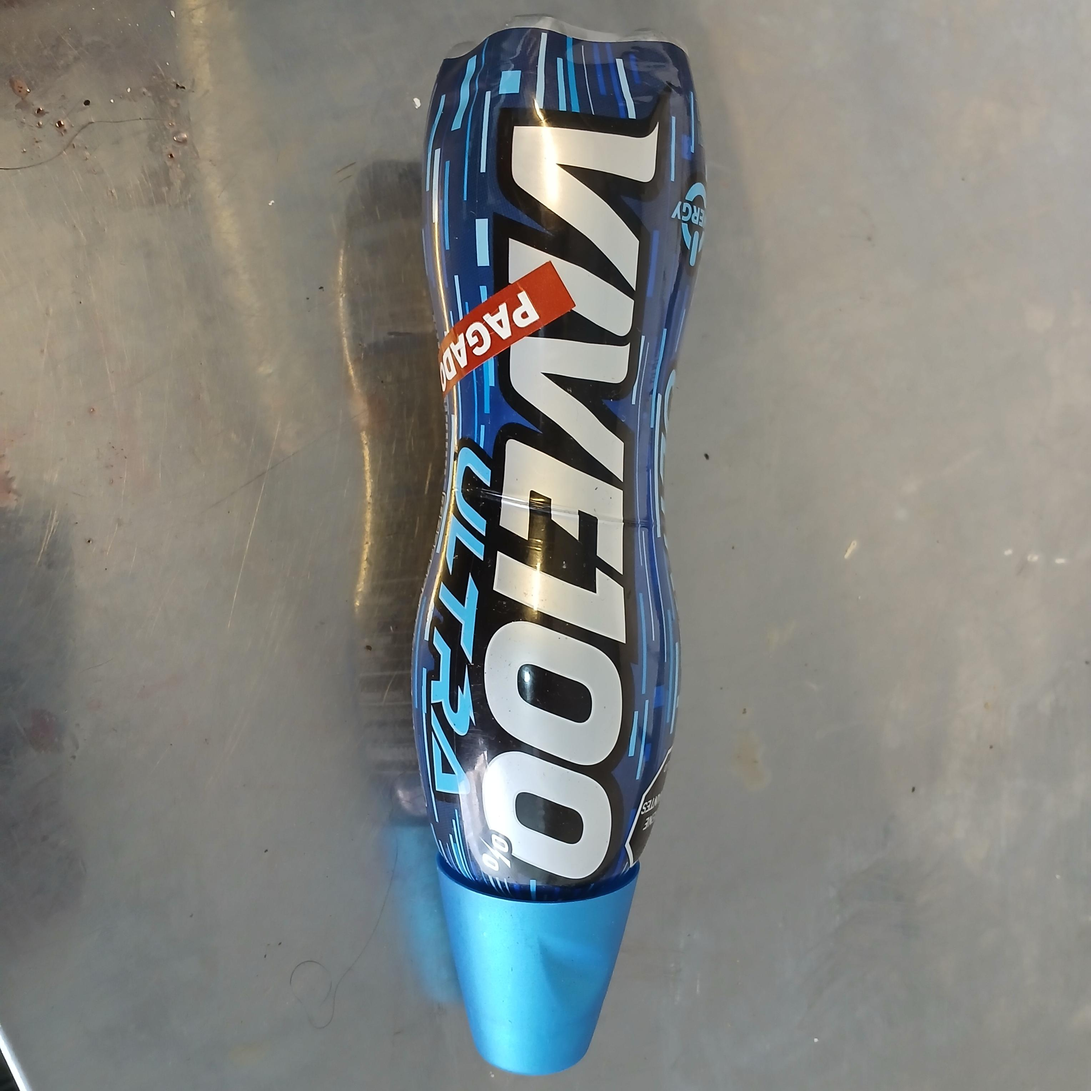Plastico: (412, 17, 708, 1074)
